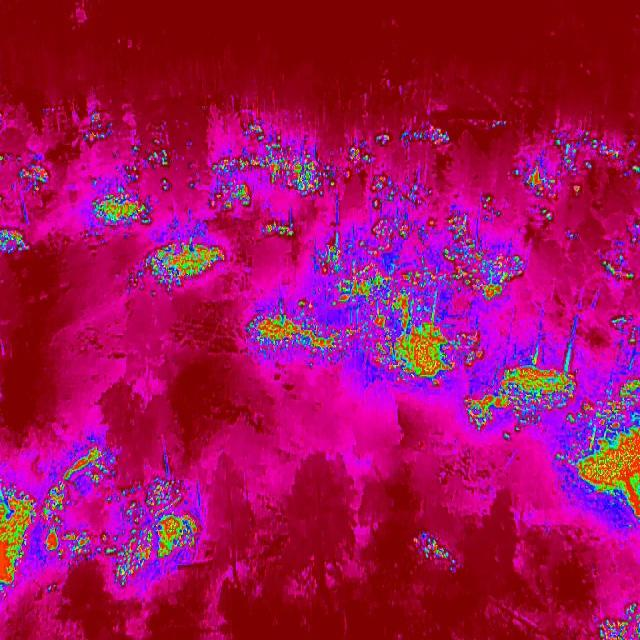fire: (38, 443, 154, 586), (208, 118, 340, 240), (314, 213, 434, 316), (560, 374, 640, 528), (438, 194, 532, 300), (372, 299, 480, 389), (460, 358, 584, 434), (241, 303, 370, 365), (552, 126, 640, 196), (148, 474, 200, 570), (142, 237, 226, 292), (0, 484, 38, 598), (124, 132, 178, 193), (89, 184, 154, 231), (372, 122, 459, 156), (368, 171, 433, 211), (512, 152, 565, 200), (412, 531, 462, 575), (13, 150, 55, 198), (593, 602, 640, 640), (596, 250, 640, 286), (342, 135, 379, 177), (0, 222, 32, 260), (81, 112, 113, 147), (609, 310, 640, 346)
